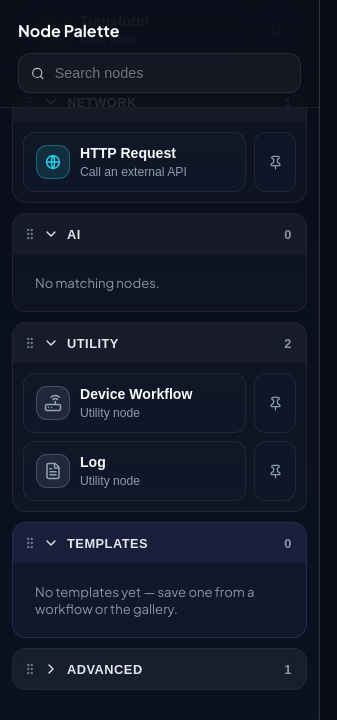
SidebarPalette › routes secondary (escape-hatch) nodes into a collapsed Advanced section
(page scrolled)
Expected: the button with test id "palette-node-externalDevice" is shown, 23,373 -> 246,433
What coordinates should you click on to do the following:
click the button "Advanced 1"
I would click on:
 (105, 669)
Its box is 35,649 -> 306,689.
(page scrolled)
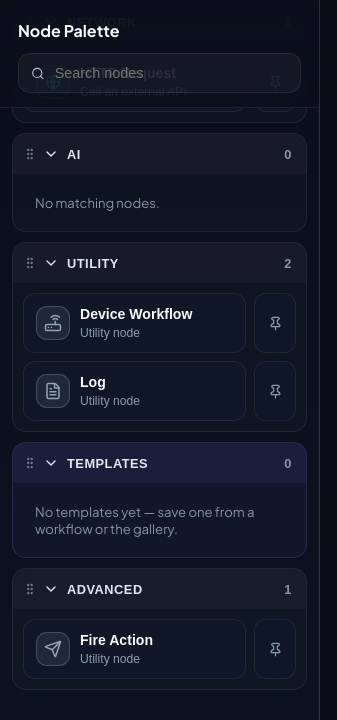
Now the button with test id "palette-node-fireAction" is shown, box 23,619 -> 246,679
